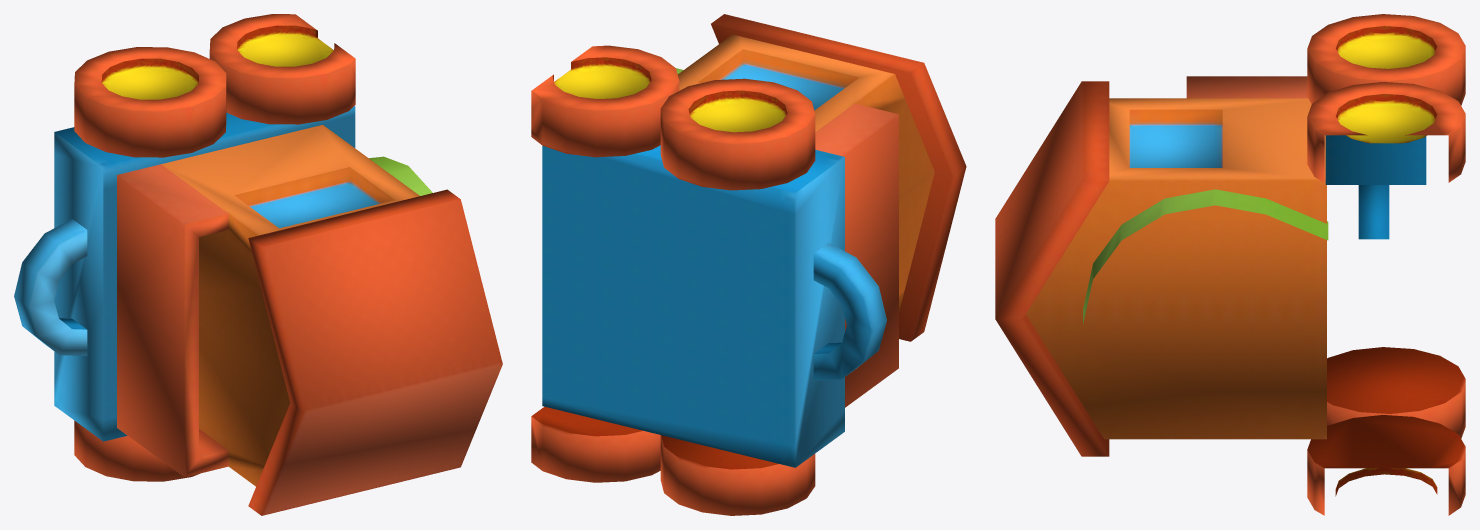
Rendered from train_right.glb.
The picture shows the model from 3 angles, left to right: view 1: azimuth 30°, elevation 25°; view 2: azimuth 150°, elevation 25°; view 3: azimuth 270°, elevation 25°; orthographic projection. The views are drawn at different scales.
Visible parts, largest first — view 1: planet.001; view 2: planet.001; view 3: planet.001.
Part boxes in pixels (x1,y1,x2,y2): planet.001: (14, 14, 502, 515); planet.001: (531, 14, 966, 515); planet.001: (995, 14, 1465, 515).
Size of the model in its own units: 0.7539 by 0.8596 by 0.9635.
1 material, 1 textured.
